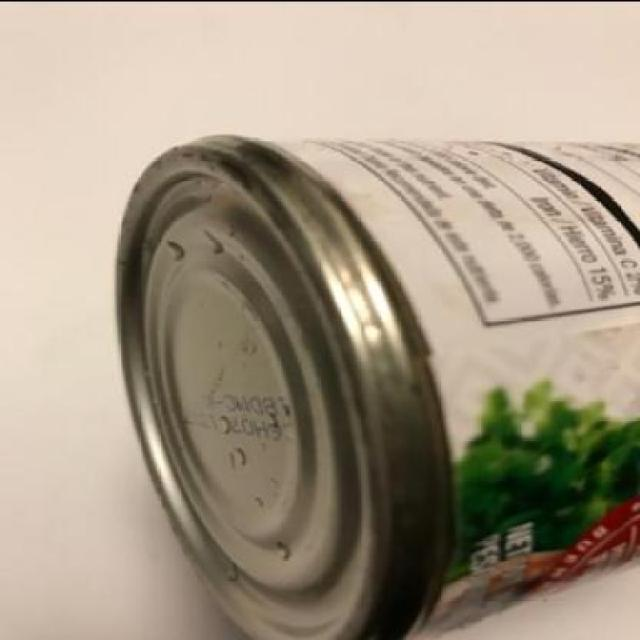METAL: (112, 136, 638, 638)
